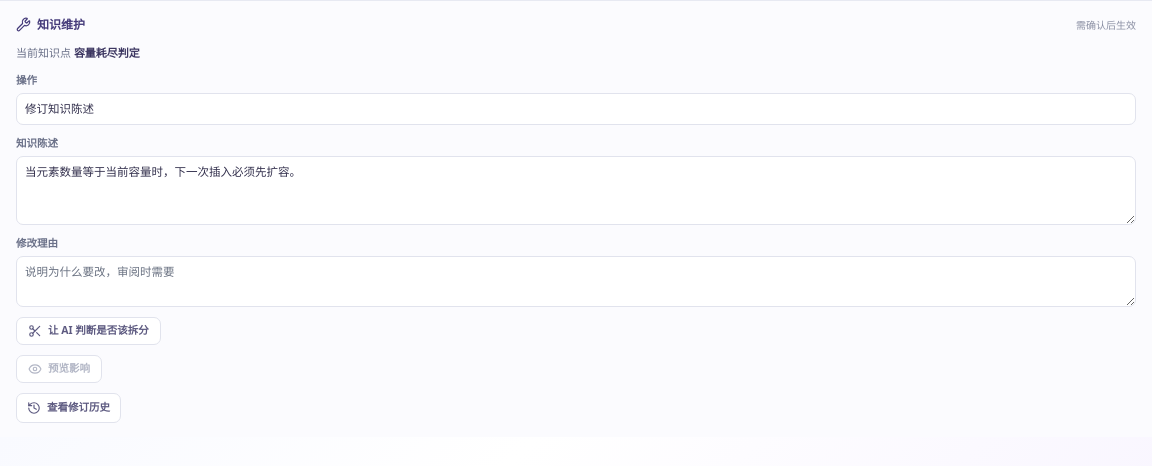
Test: AI 拆分建议 › AI 判断无需拆分时如实告知，不产出候选
Click the button with class "is-propose" at (88, 330), box [16,316,161,344]
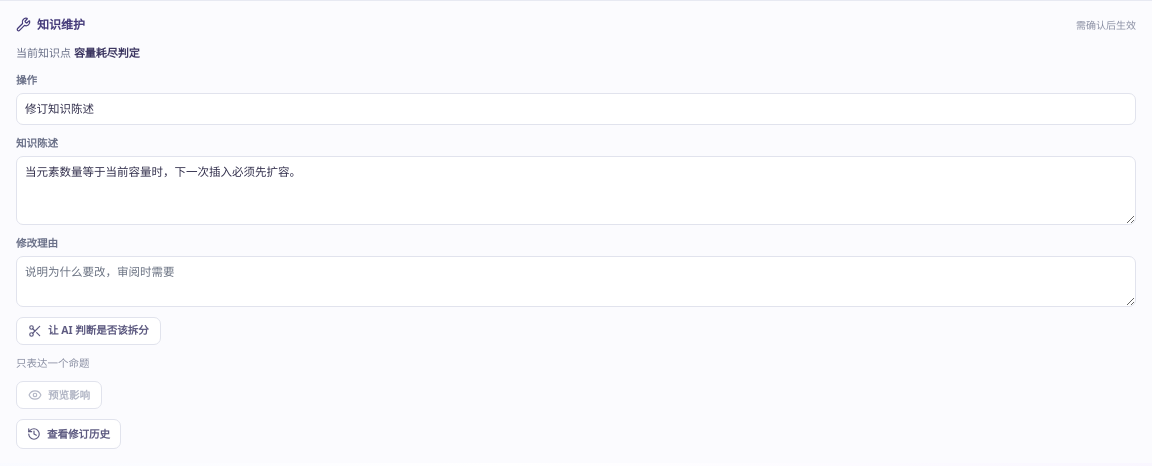
expect the text "只表达一个命题" is shown: met, box [16,356,90,370]
